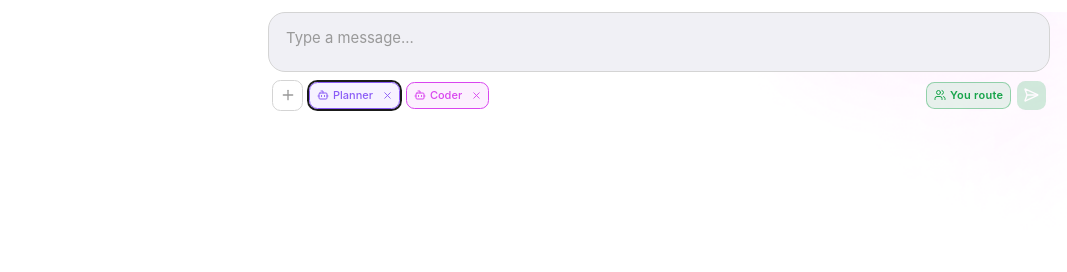
Scenario: the agent chip menu › goes to the agent page and closes
The image size is (1067, 272).
Right-click the element showing "Coder" at point(448, 95), box [406, 82, 489, 109]
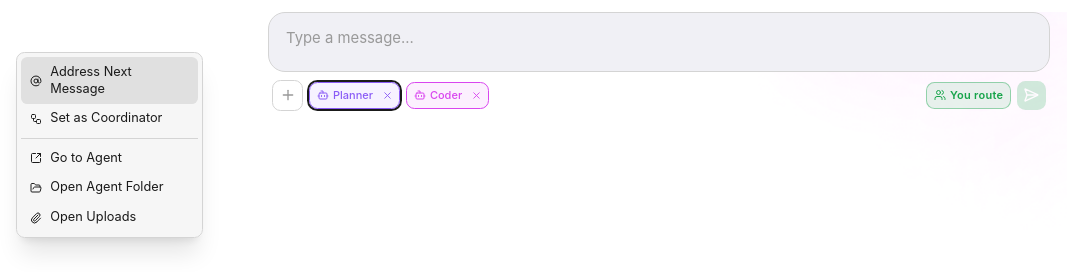
Click the menu item "Go to Agent" at point(110, 158), box [21, 143, 198, 173]
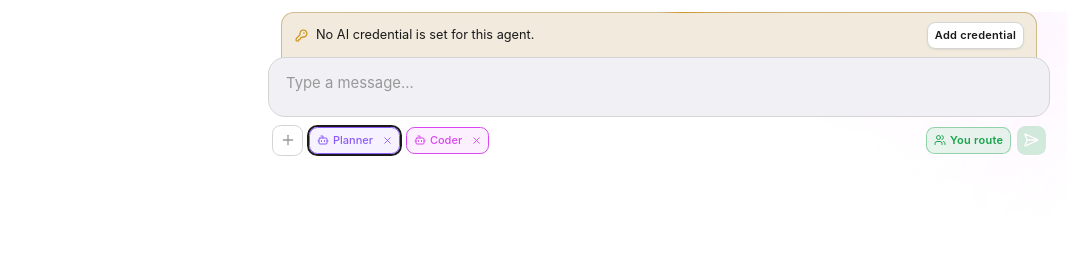
Check: the menu is gone
